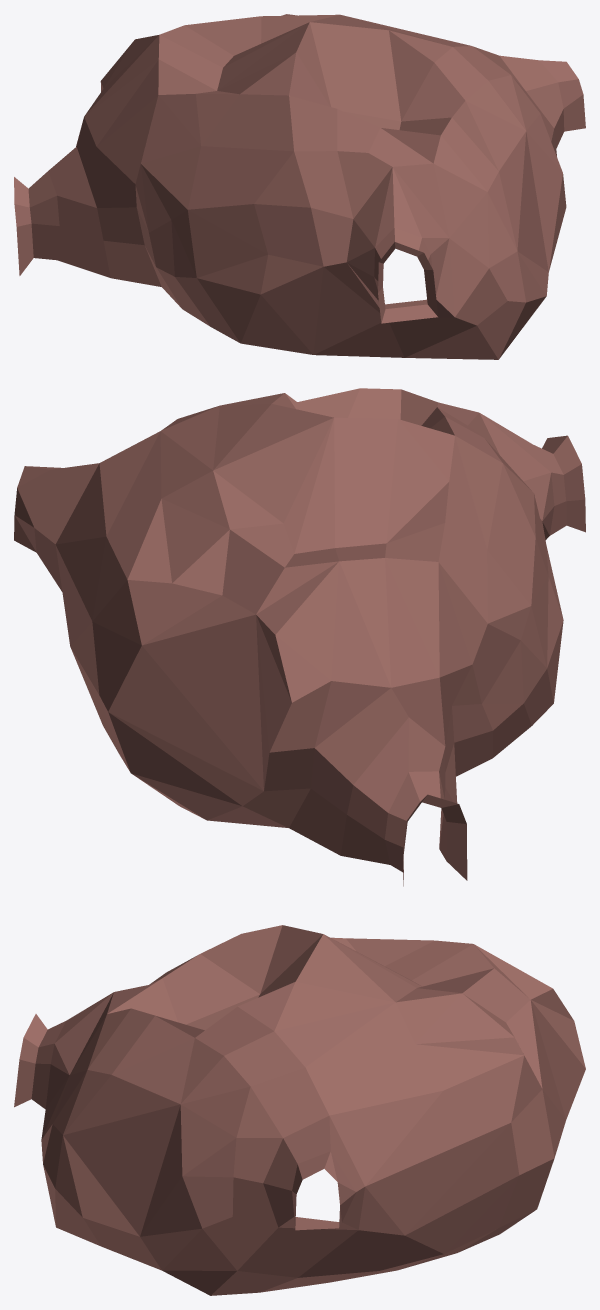
The model's file is Dome-3exits-04.fbx.
3 renders of one model, top to bottom at view 1: azimuth 30°, elevation 25°; view 2: azimuth 150°, elevation 25°; view 3: azimuth 270°, elevation 25°, orthographic. The views are drawn at different scales.
Parts seen in each view (by area): view 1: Dome-3exits-04; view 2: Dome-3exits-04; view 3: Dome-3exits-04.
Boxes of the visible parts, x1=… form: Dome-3exits-04: x1=14, y1=14, x2=585, y2=359; Dome-3exits-04: x1=14, y1=388, x2=585, y2=886; Dome-3exits-04: x1=14, y1=925, x2=585, y2=1295.
Size of the model in its own units: 2309 by 2225 by 1257.
